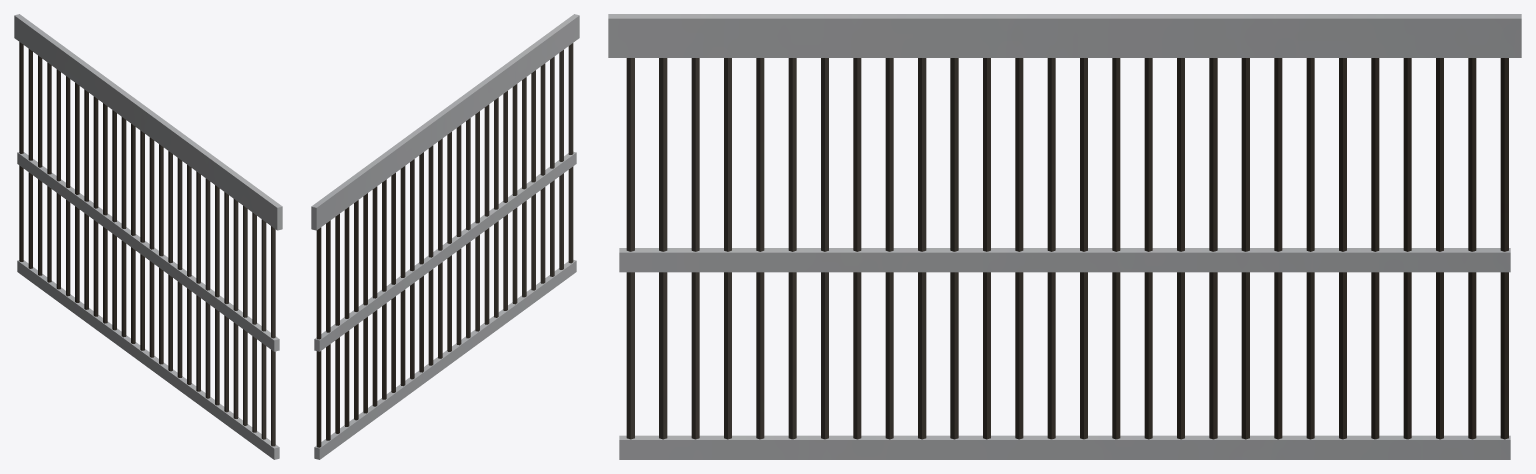
File: muro6.fbx
3 views of the same model, side by side, from view 1: azimuth 30°, elevation 25°; view 2: azimuth 150°, elevation 25°; view 3: azimuth 270°, elevation 25° (orthographic). The views are drawn at different scales.
Parts seen in each view (by area): view 1: puerta1; view 2: puerta1; view 3: puerta1.
Boxes of the visible parts, left/top/right/bottom form: puerta1: left=14, top=14, right=282, bottom=459; puerta1: left=311, top=14, right=579, bottom=459; puerta1: left=608, top=14, right=1521, bottom=459.
Size of the model in its own units: 41.72 by 1869 by 3504.
